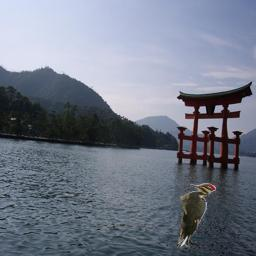Woodpecker: (176, 183, 216, 248)
